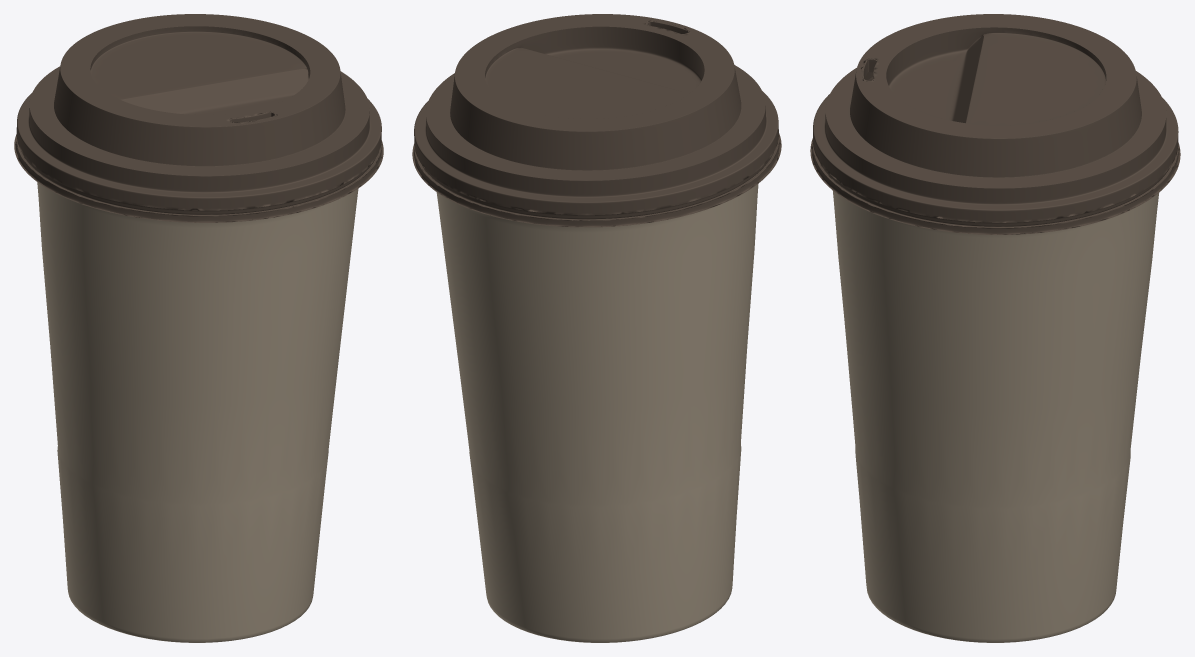
Rendered from PlasticCupSimpler.fbx.
3 views of the same model, side by side, from view 1: azimuth 30°, elevation 25°; view 2: azimuth 150°, elevation 25°; view 3: azimuth 270°, elevation 25° (orthographic).
Visible parts, largest first — view 1: Mug, Mug Top; view 2: Mug, Mug Top; view 3: Mug, Mug Top.
Boxes of the visible parts, x1,y1,x2,y2 form: Mug: (37,182,358,642); Mug Top: (14,14,383,222); Mug: (436,183,758,642); Mug Top: (412,14,781,227); Mug: (832,190,1158,642); Mug Top: (810,14,1180,234).
Bounding box in the file's own units: 41.64 × 65.21 × 41.65.
